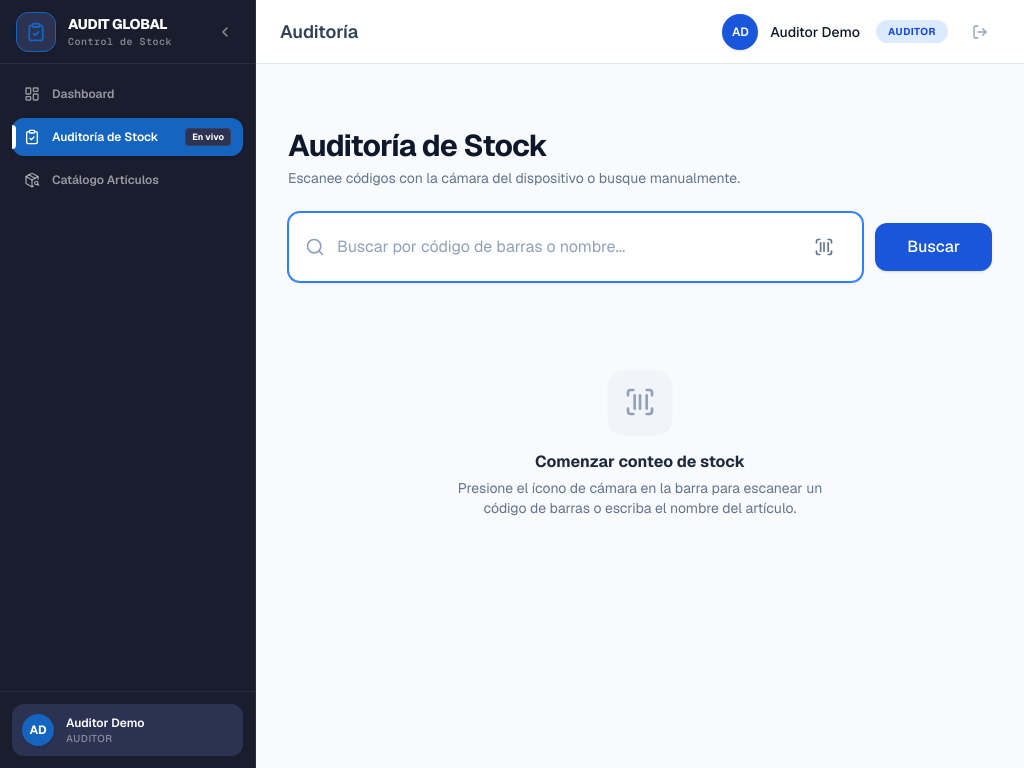
AuditPage › allows incrementing and decrementing count using stepper
Step 1. Type "7791234567890" into the field with placeholder "Buscar por código de barras o nombre..." → x=570, y=247, box [337, 235, 802, 259]
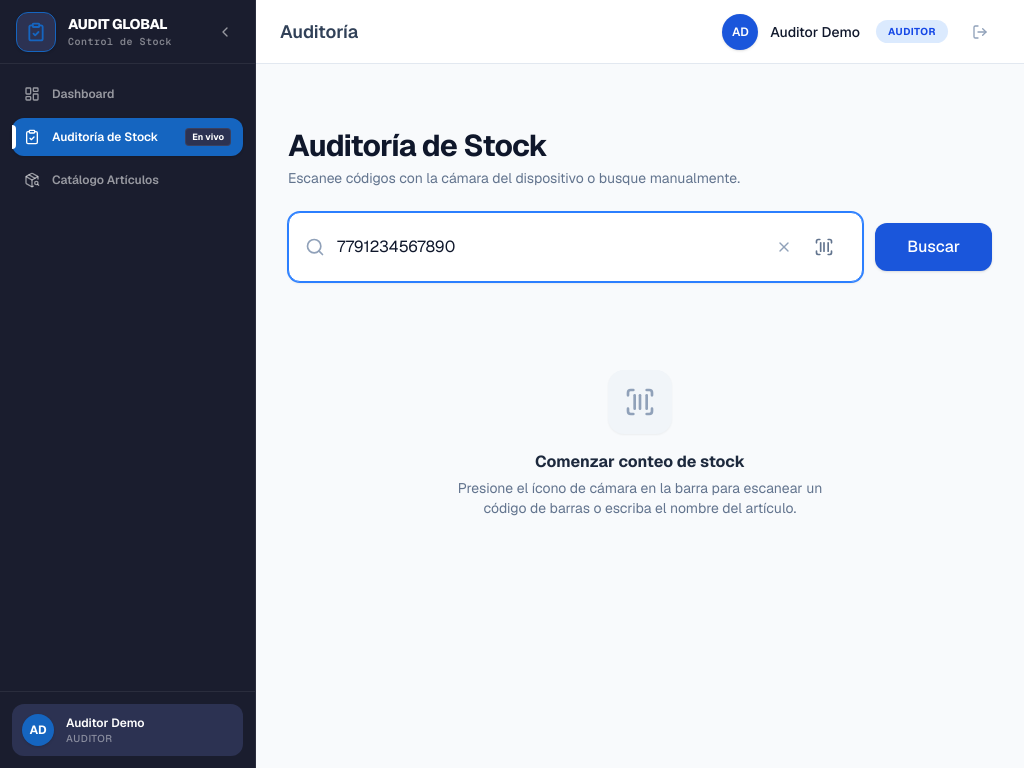
Step 2. Click the button "Buscar" → x=934, y=247, box [875, 223, 992, 271]
(page scrolled)
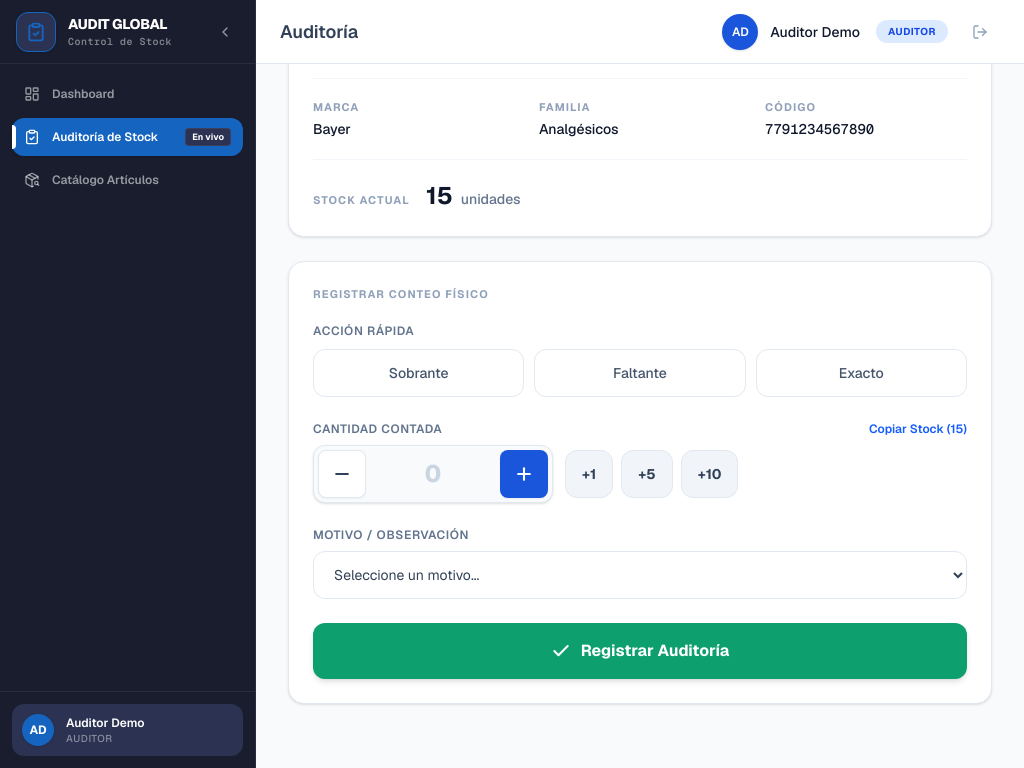
Now the button named "Aumentar cantidad" is shown
Step 3. Click the button named "Aumentar cantidad" → x=524, y=474, box [500, 450, 548, 498]
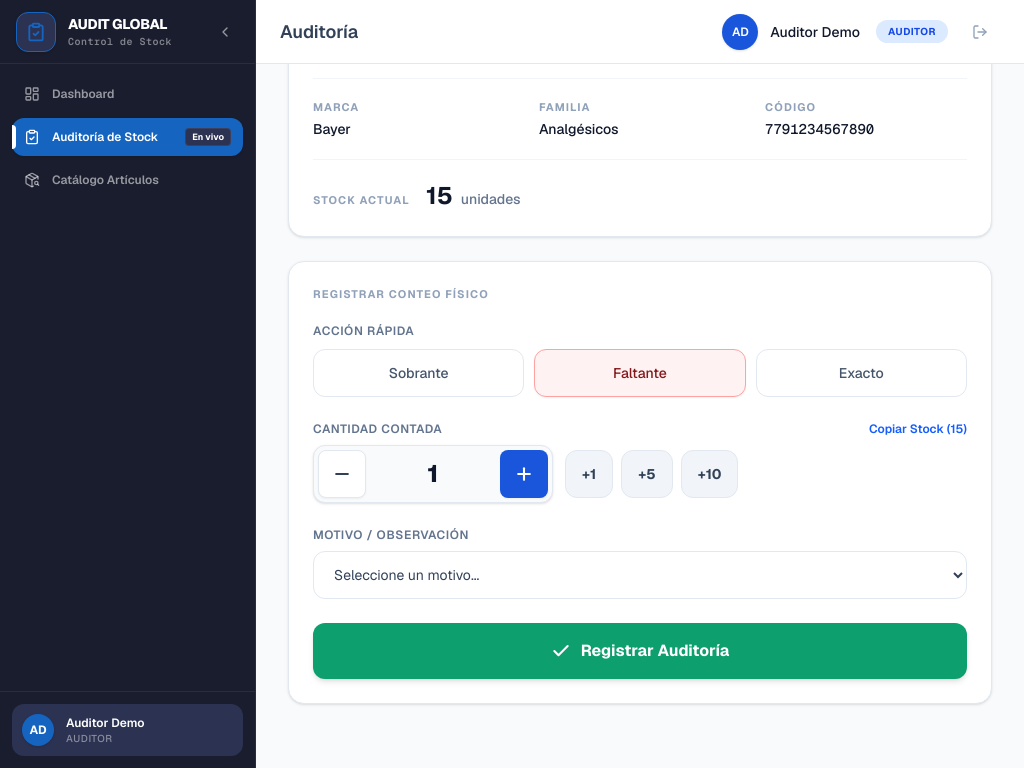
Now the number field with placeholder "0" holds "1", box [366, 450, 500, 498]
Step 4. Click the button named "Aumentar cantidad" → x=524, y=474, box [500, 450, 548, 498]
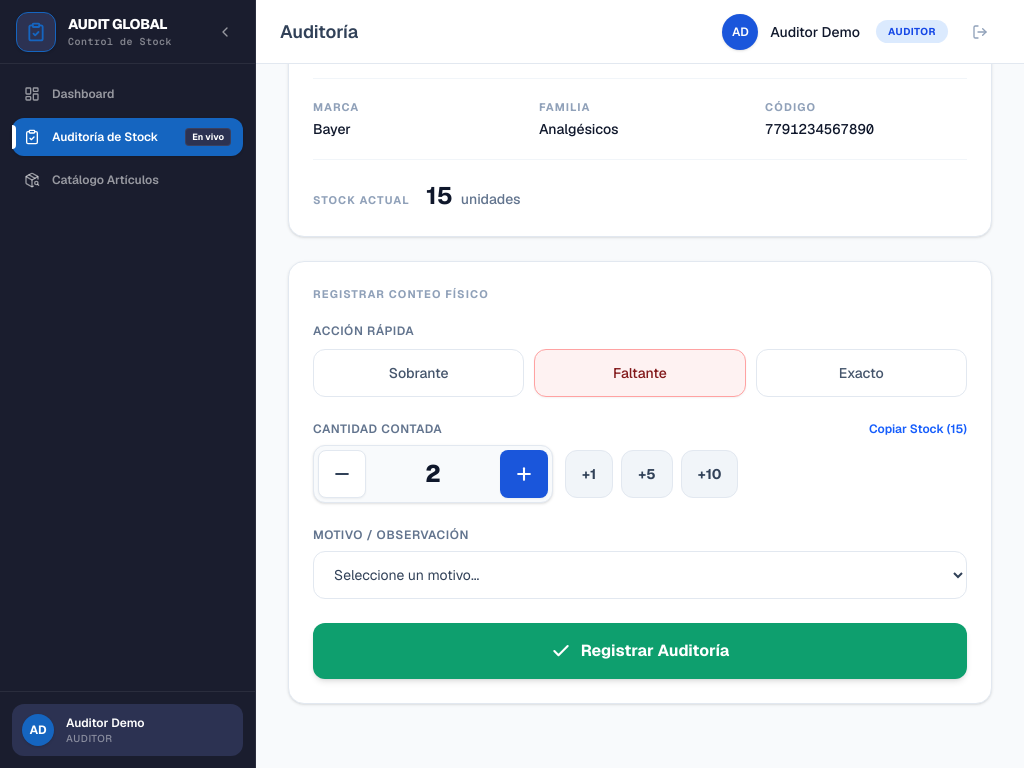
Now the number field with placeholder "0" holds "2", box [366, 450, 500, 498]
Step 5. Click the button named "Disminuir cantidad" → x=342, y=474, box [318, 450, 366, 498]
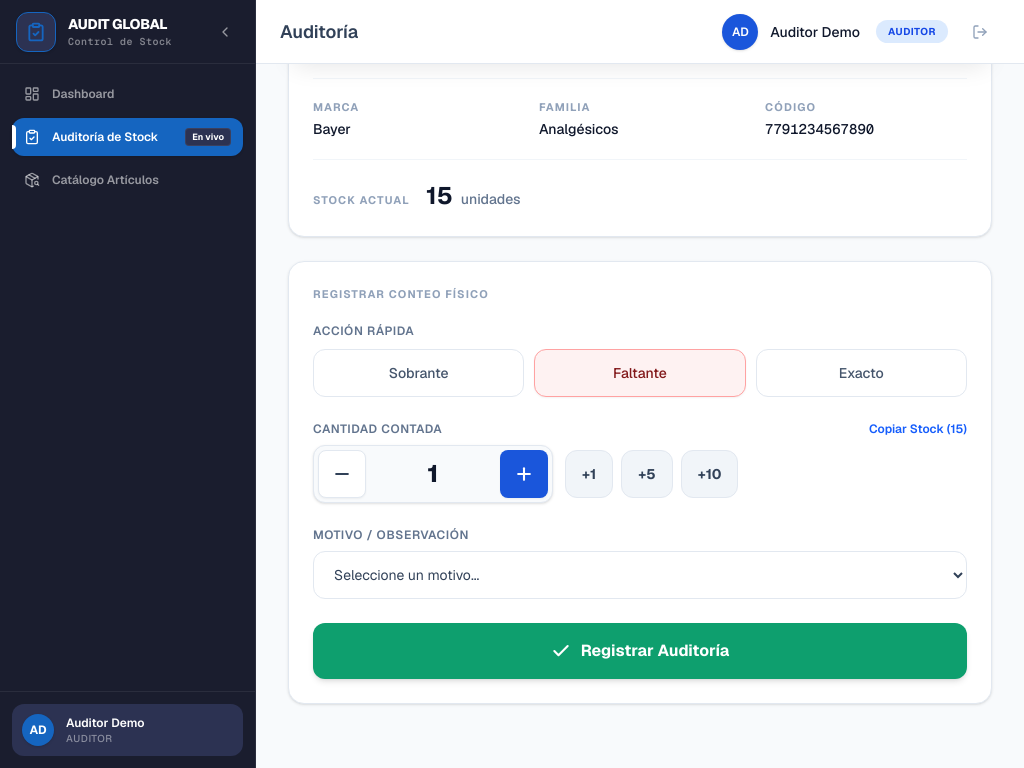
Now the number field with placeholder "0" holds "1", box [366, 450, 500, 498]
